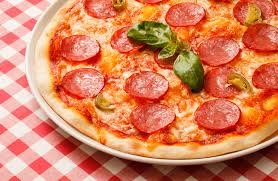pizza: (41, 1, 265, 149)
